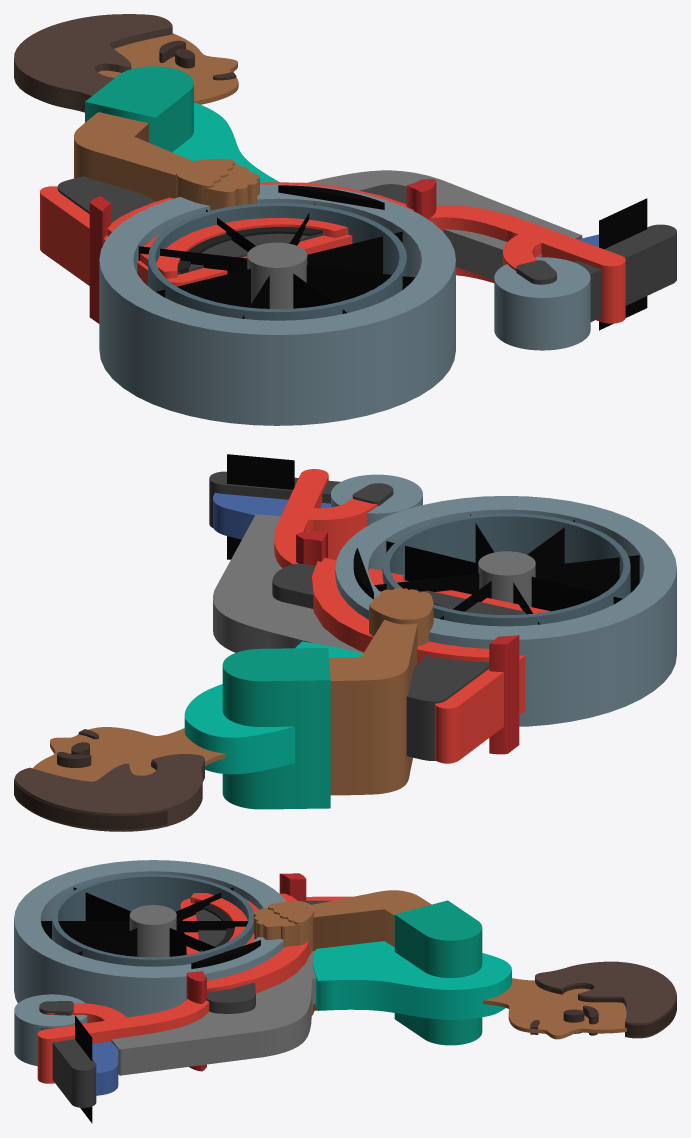
The model's file is emoji_u1f468_1f3fe_200d_1f9bd_200d_27a1.glb.
The picture shows the model from 3 angles, top to bottom: view 1: azimuth 30°, elevation 25°; view 2: azimuth 150°, elevation 25°; view 3: azimuth 270°, elevation 25°; orthographic projection. The views are drawn at different scales.
Visible parts, largest first — view 1: emoji_u1f468_1f3fe_200d_1f9bd_200d_27a1; view 2: emoji_u1f468_1f3fe_200d_1f9bd_200d_27a1; view 3: emoji_u1f468_1f3fe_200d_1f9bd_200d_27a1.
Boxes of the visible parts, x1,y1,x2,y2 form: emoji_u1f468_1f3fe_200d_1f9bd_200d_27a1: (14,14,676,425); emoji_u1f468_1f3fe_200d_1f9bd_200d_27a1: (14,454,676,831); emoji_u1f468_1f3fe_200d_1f9bd_200d_27a1: (14,860,676,1123).
Bounding box in the file's own units: 0.0222 × 0.0056 × 0.0321.
